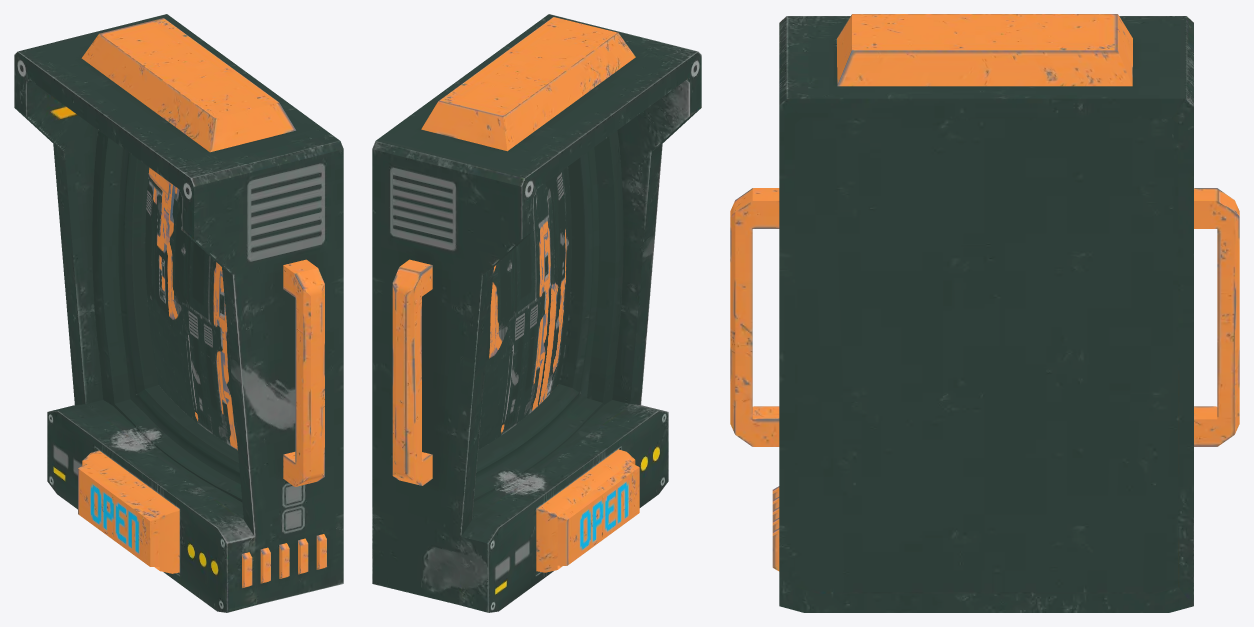
Rendered from monitor.glb.
The picture shows the model from 3 angles, left to right: view 1: azimuth 30°, elevation 25°; view 2: azimuth 150°, elevation 25°; view 3: azimuth 270°, elevation 25°; orthographic projection. The views are drawn at different scales.
Visible parts, largest first — view 1: Body, Sceen, Button; view 2: Body, Sceen, Button; view 3: Body.
Boxes of the visible parts, x1,y1,x2,y2 form: Body: (14, 14, 343, 612); Sceen: (145, 167, 237, 450); Button: (78, 450, 179, 573); Body: (372, 14, 701, 612); Sceen: (478, 166, 571, 449); Button: (536, 449, 639, 572); Body: (730, 14, 1239, 612).
Bounding box in the file's own units: 1.33 × 4.01 × 3.4.
Materials: 2 (2 with a texture image).
